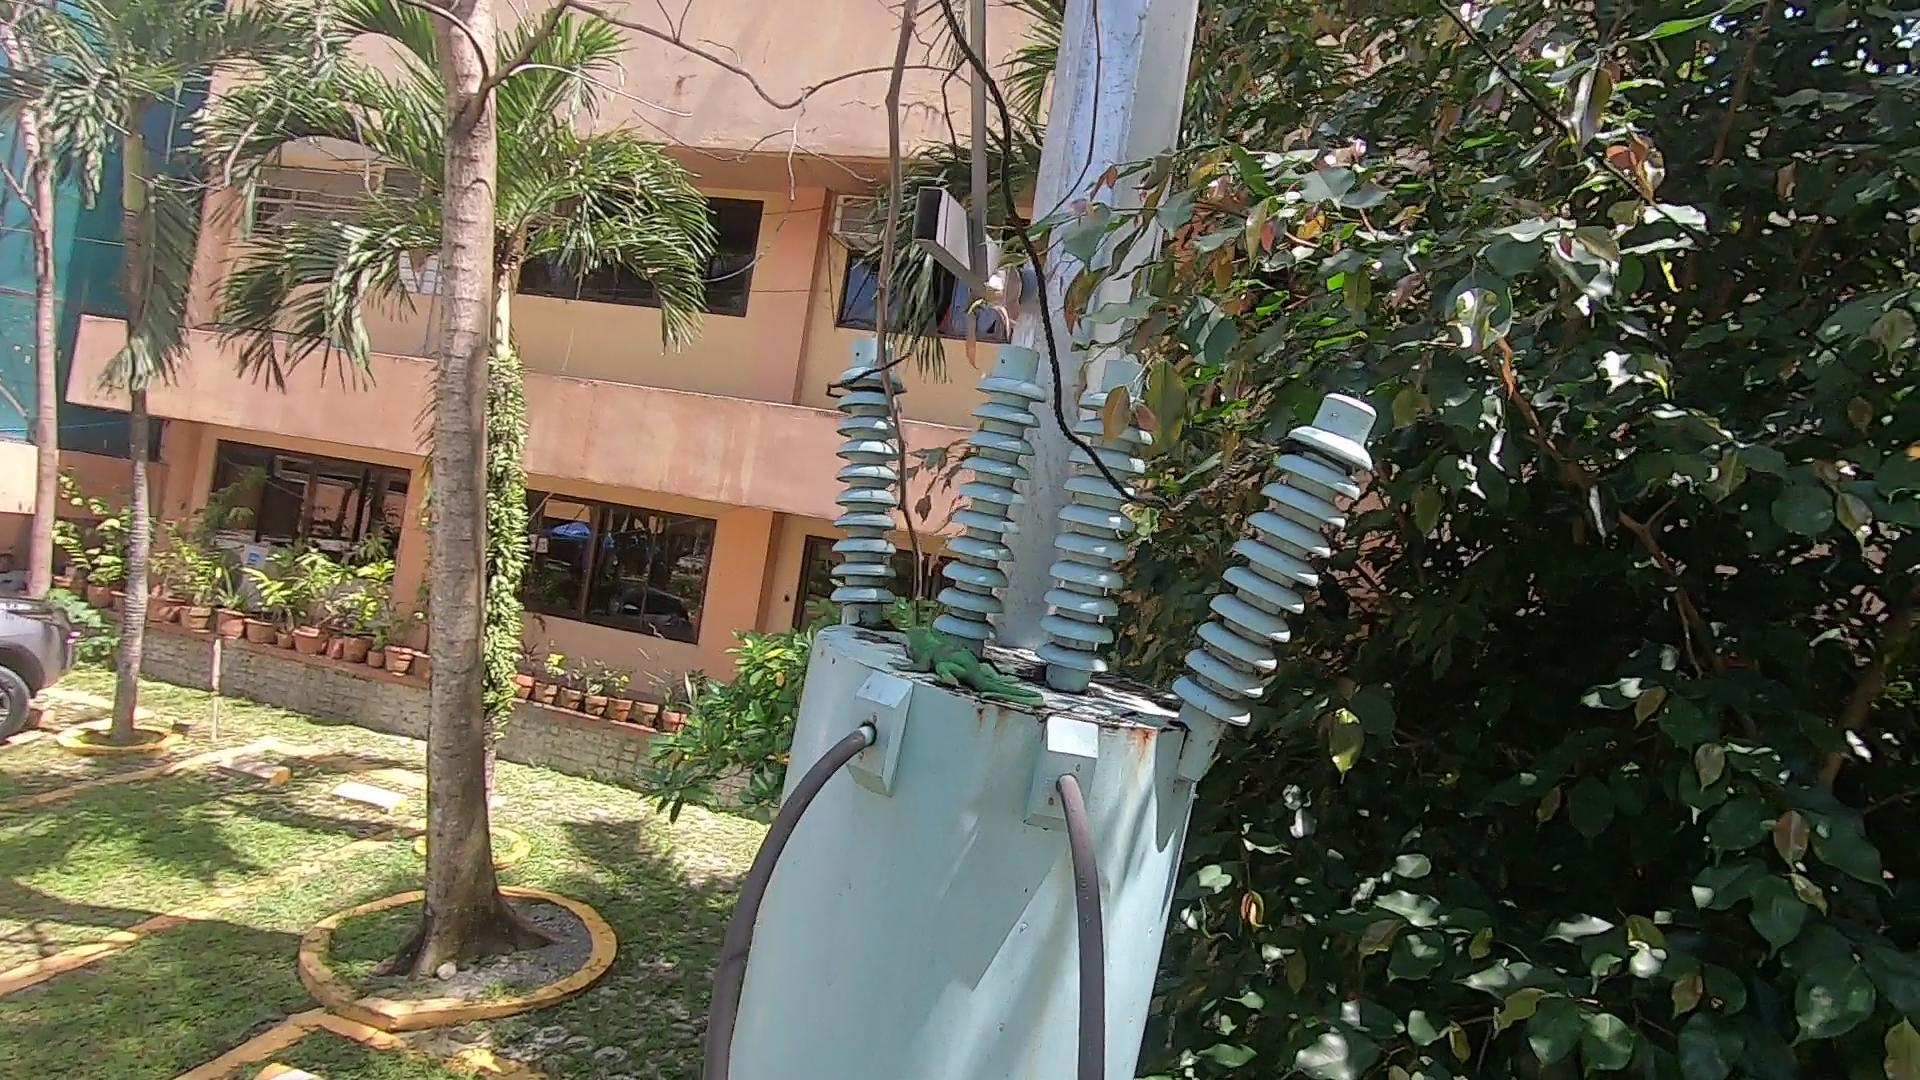branch with leaves: (1044, 268, 1279, 473)
leaf: (1098, 651, 1176, 709), (997, 647, 1067, 691), (845, 597, 911, 637)
tree branch: (849, 18, 1001, 603)
